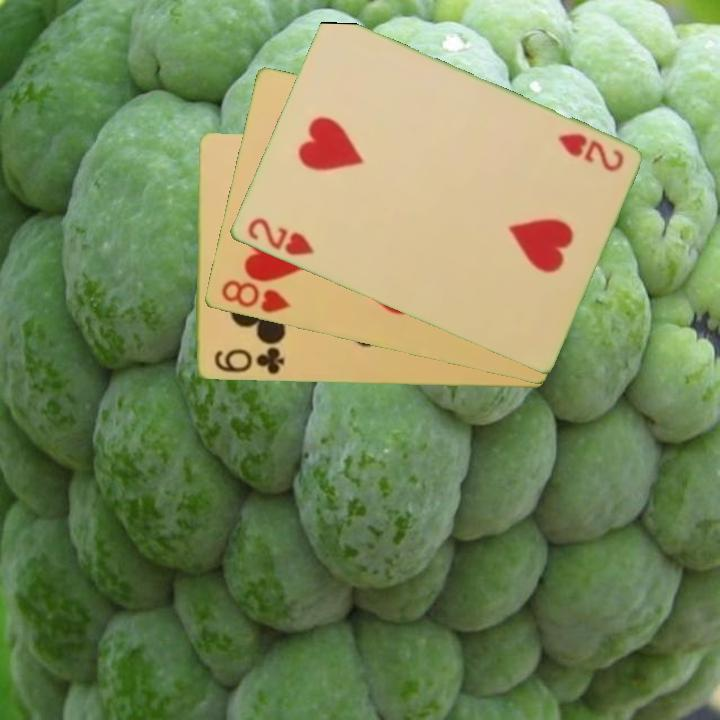2h: (243, 214, 317, 259), (554, 130, 626, 175)
6c: (210, 344, 287, 378)
8h: (217, 276, 293, 316)
